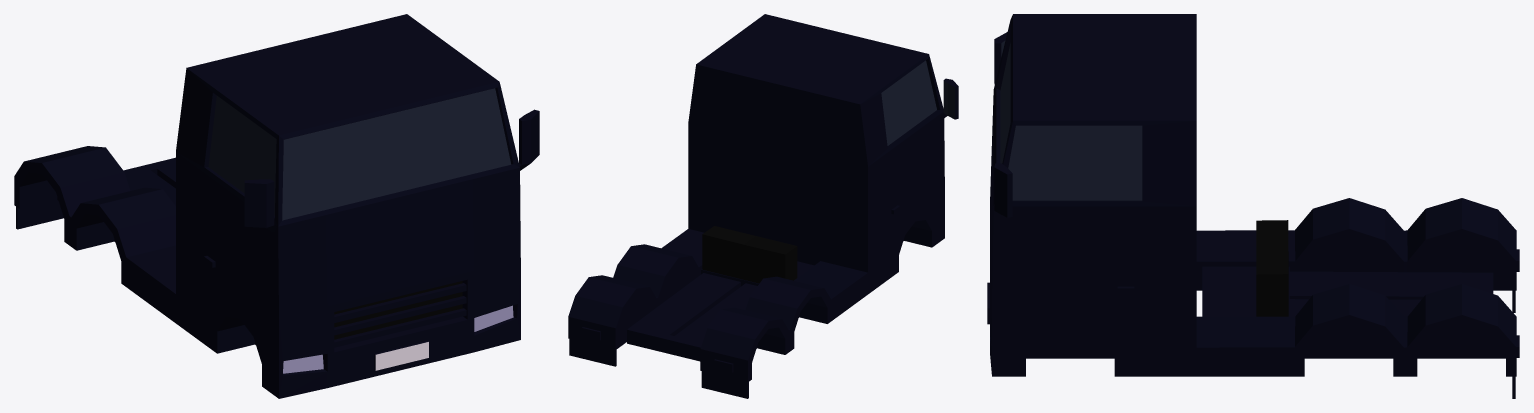
Rendered from rgs-semi-tractor.glb.
3 views of the same model, side by side, from view 1: azimuth 30°, elevation 25°; view 2: azimuth 150°, elevation 25°; view 3: azimuth 270°, elevation 25° (orthographic). The views are drawn at different scales.
Parts seen in each view (by area): view 1: tractor-body; view 2: tractor-body; view 3: tractor-body.
Part boxes in pixels (<box>): tractor-body: <box>14,14,539,398</box>; tractor-body: <box>568,14,958,398</box>; tractor-body: <box>987,14,1519,398</box>.
Size of the model in its own units: 341 by 305 by 538.
